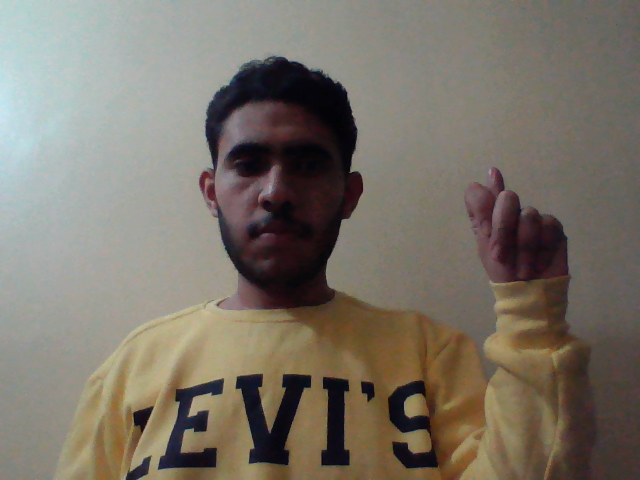T: (454, 158, 585, 305)
